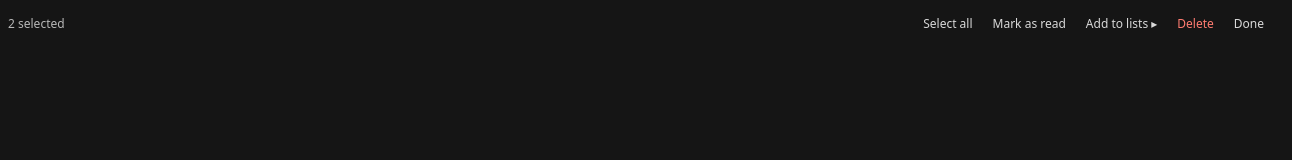
Scenario: FanListBulkBar › Add to lists offers only lists that take users and adds every pick in one POST
Step 1. Click the button "Add to lists ▸" → (1122, 24), box top-left (1078, 6), bottom-right (1165, 42)
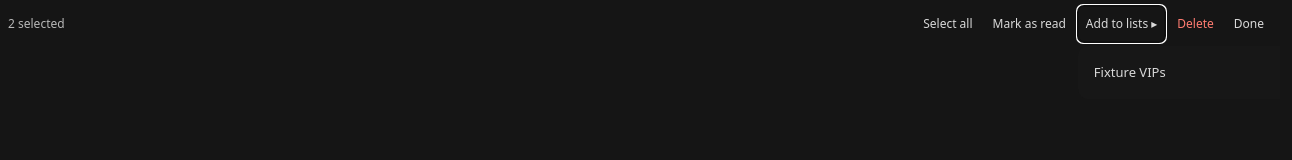
Step 2. Click the button "Fixture VIPs" → (1182, 72), box top-left (1084, 52), bottom-right (1280, 93)
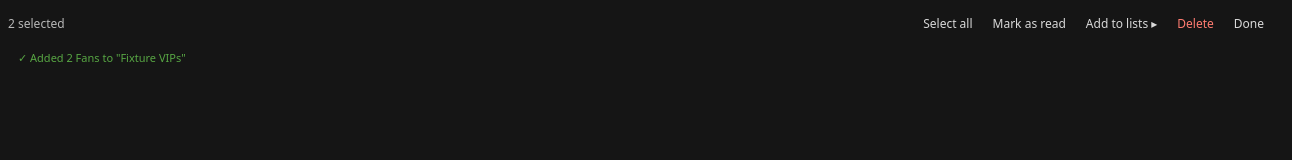
Expected: the text "✓ Added 2 Fans to \"Fixture VIPs\"" is shown, top-left (18, 50), bottom-right (186, 65)
